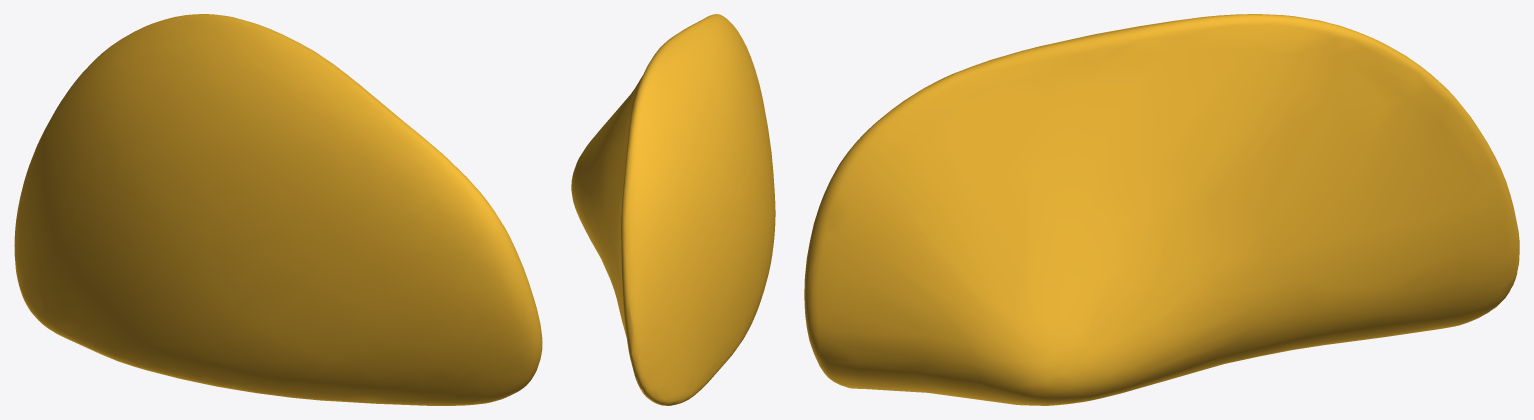
The model's file is nervoso-globus-pallidus-r.glb.
3 renders of one model, left to right at view 1: azimuth 30°, elevation 25°; view 2: azimuth 150°, elevation 25°; view 3: azimuth 270°, elevation 25°, orthographic. The views are drawn at different scales.
Visible parts, largest first — view 1: Globus pallidus.r; view 2: Globus pallidus.r; view 3: Globus pallidus.r.
Boxes of the visible parts, x1=… form: Globus pallidus.r: x1=14, y1=14, x2=542, y2=405; Globus pallidus.r: x1=571, y1=14, x2=775, y2=405; Globus pallidus.r: x1=804, y1=14, x2=1519, y2=405.
Size of the model in its own units: 0.0162 by 0.0168 by 0.0284.
